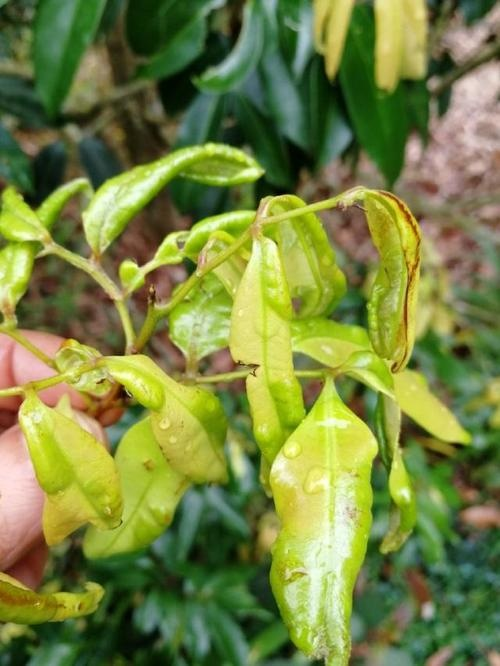Gall_Mite: (220, 194, 348, 341), (98, 349, 208, 482), (267, 445, 346, 596), (373, 199, 432, 359)
